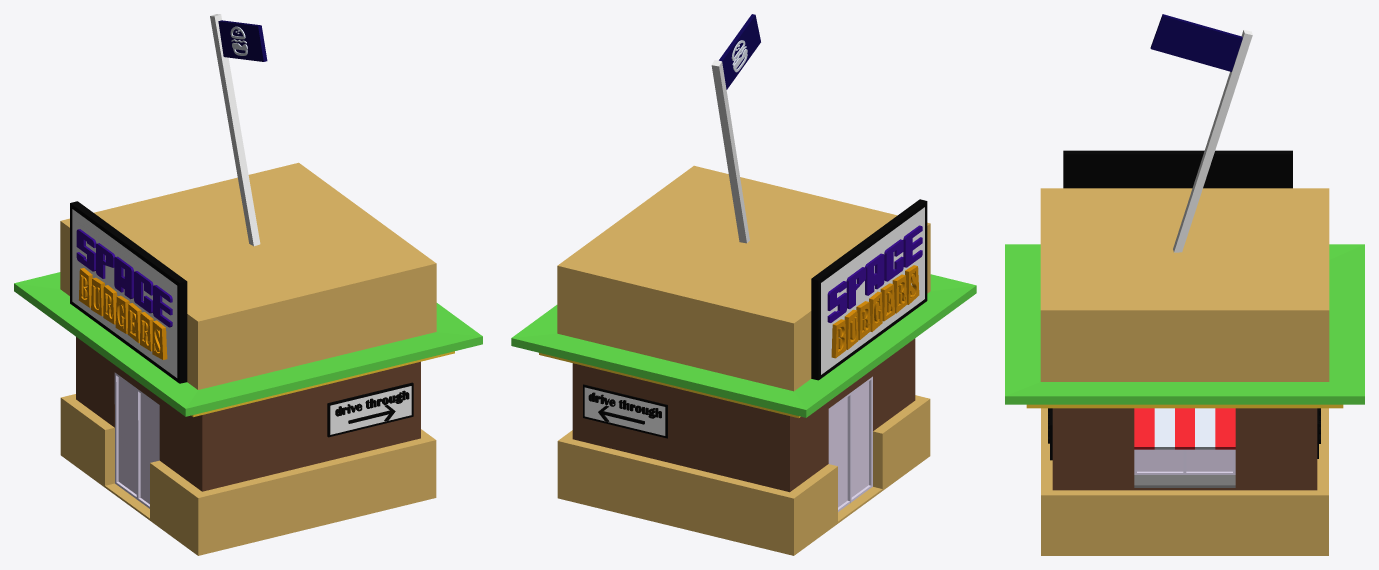
Rendered from burger_joint.fbx.
The picture shows the model from 3 angles, left to right: view 1: azimuth 30°, elevation 25°; view 2: azimuth 150°, elevation 25°; view 3: azimuth 270°, elevation 25°; orthographic projection. The views are drawn at different scales.
Visible parts, largest first — view 1: space burgers; view 2: space burgers; view 3: space burgers.
Part boxes in pixels (x1,y1,x2,y2): space burgers: (14, 14, 482, 555); space burgers: (511, 14, 976, 555); space burgers: (1005, 14, 1364, 555).
Bounding box in the file's own units: 1869 × 2680 × 1819.
